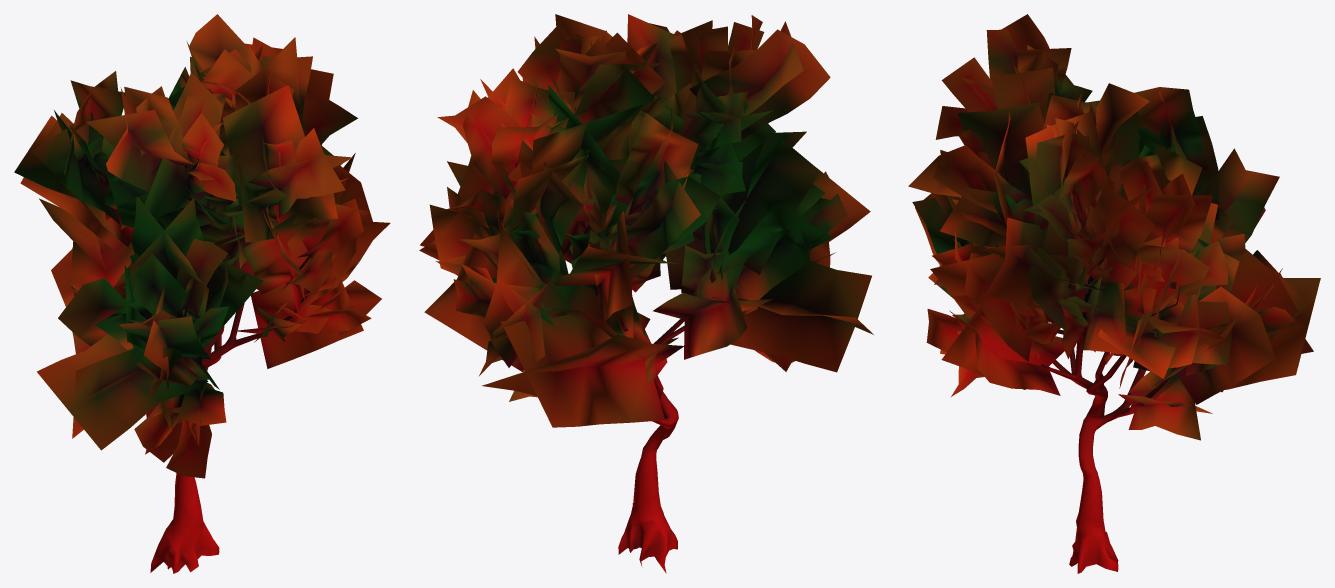
File: GenericTree_Winter_B.fbx
3 renders of one model, left to right at view 1: azimuth 30°, elevation 25°; view 2: azimuth 150°, elevation 25°; view 3: azimuth 270°, elevation 25°, orthographic. The views are drawn at different scales.
Visible parts, largest first — view 1: GTWB_Leaves_LOD0, GTWB_Bark_LOD0; view 2: GTWB_Leaves_LOD0, GTWB_Bark_LOD0; view 3: GTWB_Leaves_LOD0, GTWB_Bark_LOD0.
Boxes of the visible parts, box(x1,y1,x2,y2) form: GTWB_Leaves_LOD0: box(14, 14, 390, 478); GTWB_Bark_LOD0: box(96, 154, 321, 573); GTWB_Leaves_LOD0: box(419, 14, 873, 427); GTWB_Bark_LOD0: box(515, 162, 684, 573); GTWB_Leaves_LOD0: box(908, 14, 1320, 440); GTWB_Bark_LOD0: box(993, 109, 1181, 573).
Size of what is drawn, in the model's own units: 7.53 by 10.37 by 7.5.
